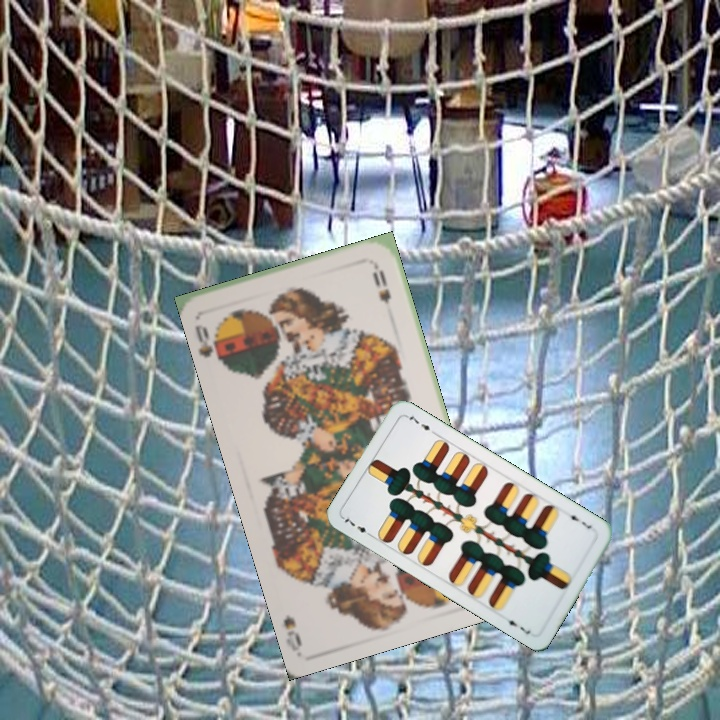E7: (339, 512, 376, 539), (563, 508, 595, 532)
SO: (191, 320, 230, 369)
